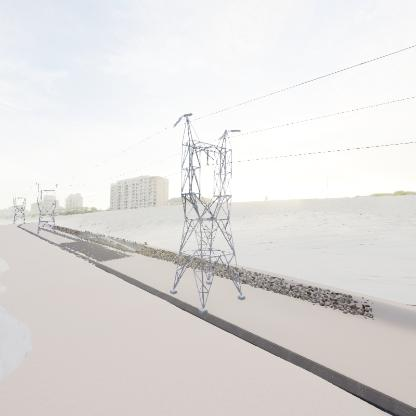tower: (170, 112, 250, 318), (32, 178, 62, 240)
